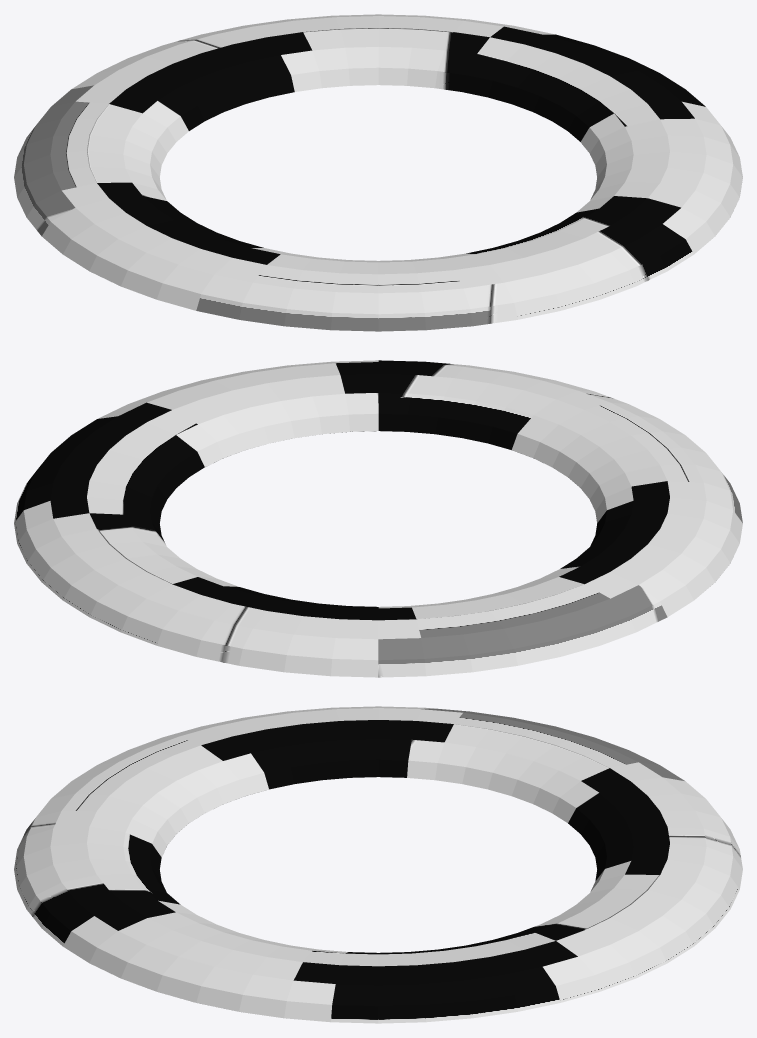
File: goal.obj
3 renders of one model, top to bottom at view 1: azimuth 30°, elevation 25°; view 2: azimuth 150°, elevation 25°; view 3: azimuth 270°, elevation 25°, orthographic.
Parts seen in each view (by area): view 1: Cube_Cube.001; view 2: Cube_Cube.001; view 3: Cube_Cube.001.
Boxes of the visible parts, x1,y1,x2,y2 form: Cube_Cube.001: (14,14,742,331); Cube_Cube.001: (14,360,742,677); Cube_Cube.001: (14,706,742,1023).
Size of the model in its own units: 2.5 by 0.1 by 2.5.
